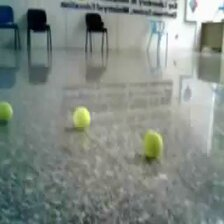tennis: (143, 131, 163, 156), (71, 106, 90, 129), (1, 101, 15, 122)
